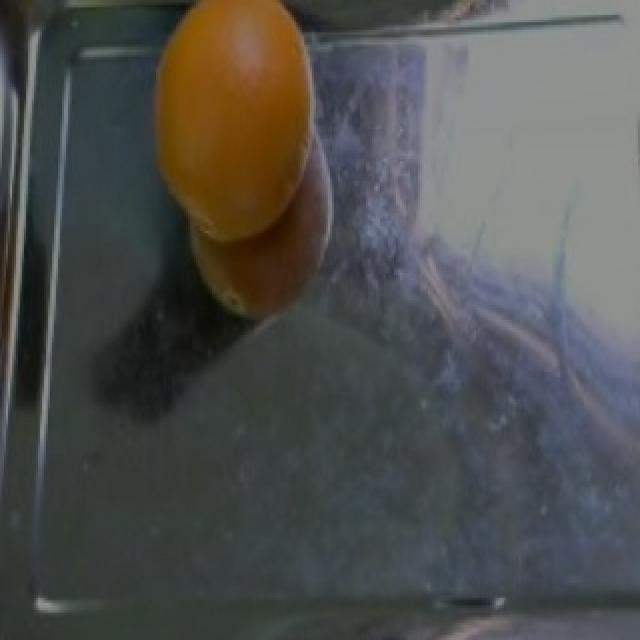Fruit: (142, 0, 330, 248)
